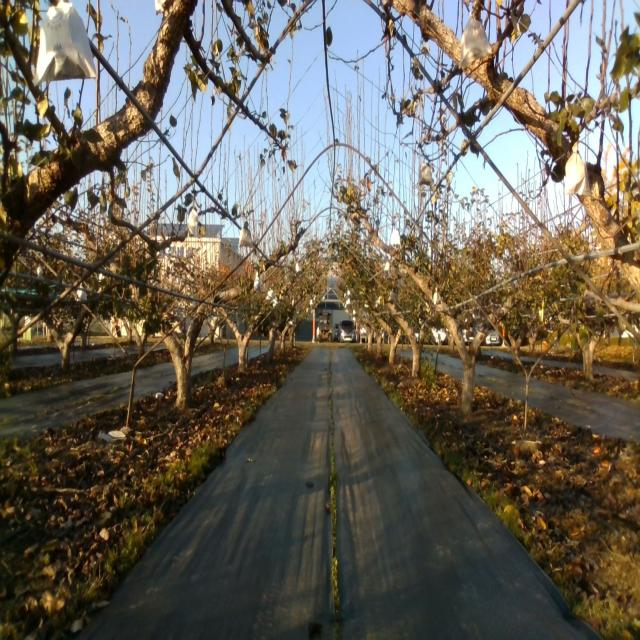pearbags: (34, 0, 96, 85), (460, 12, 492, 72), (564, 142, 590, 199), (418, 160, 434, 188), (188, 208, 200, 240), (238, 227, 253, 248)
